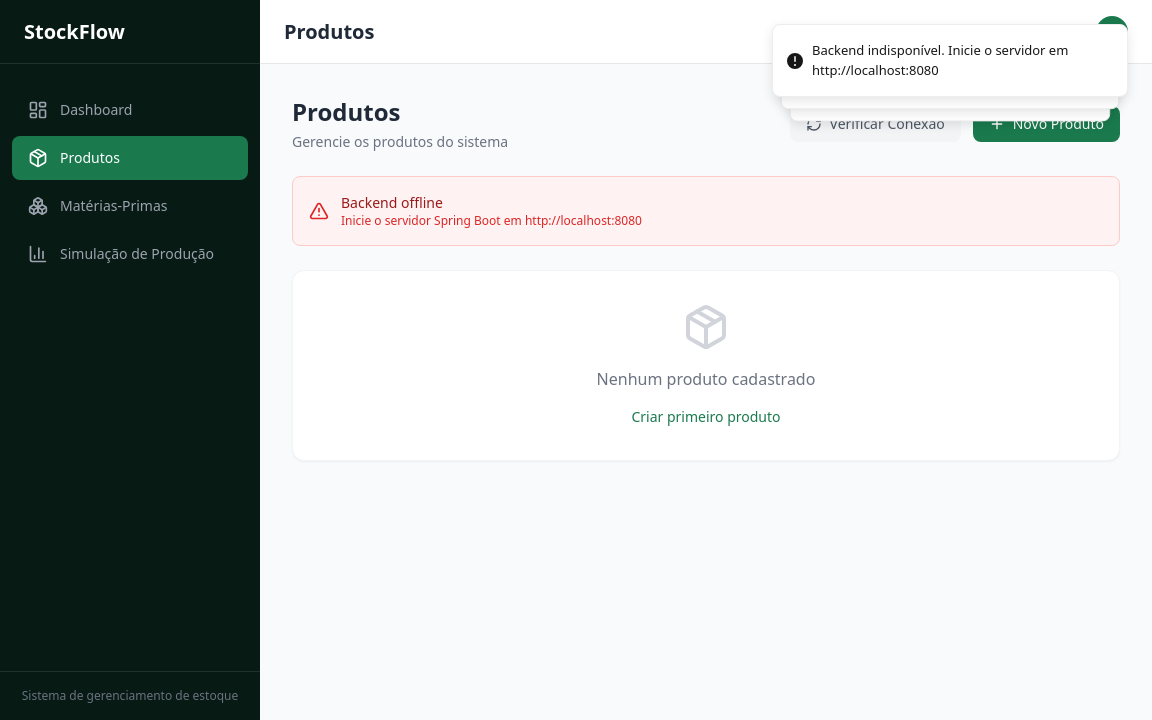
Test case: Products Page › should open new product form
What coordinates should you click on to do the following:
click the button "Novo Produto"
I would click on:
 (1047, 124)
Its box is [973,106,1120,142].
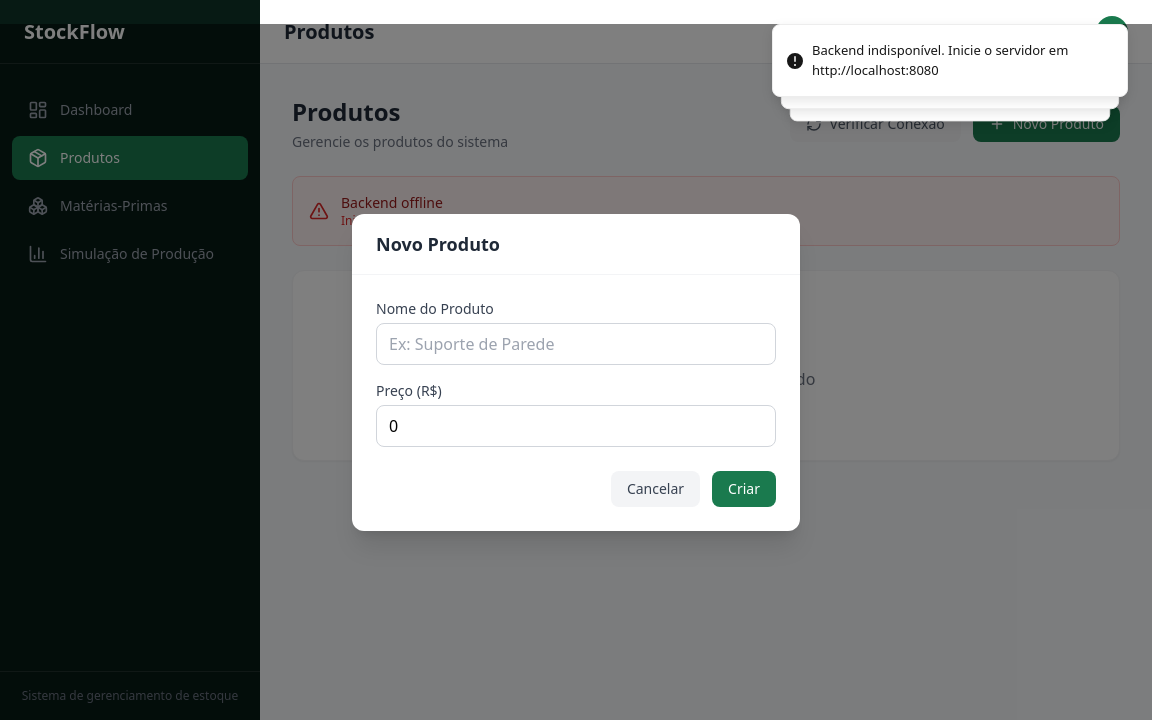
Expected: the form is shown, [352,275,800,531]
